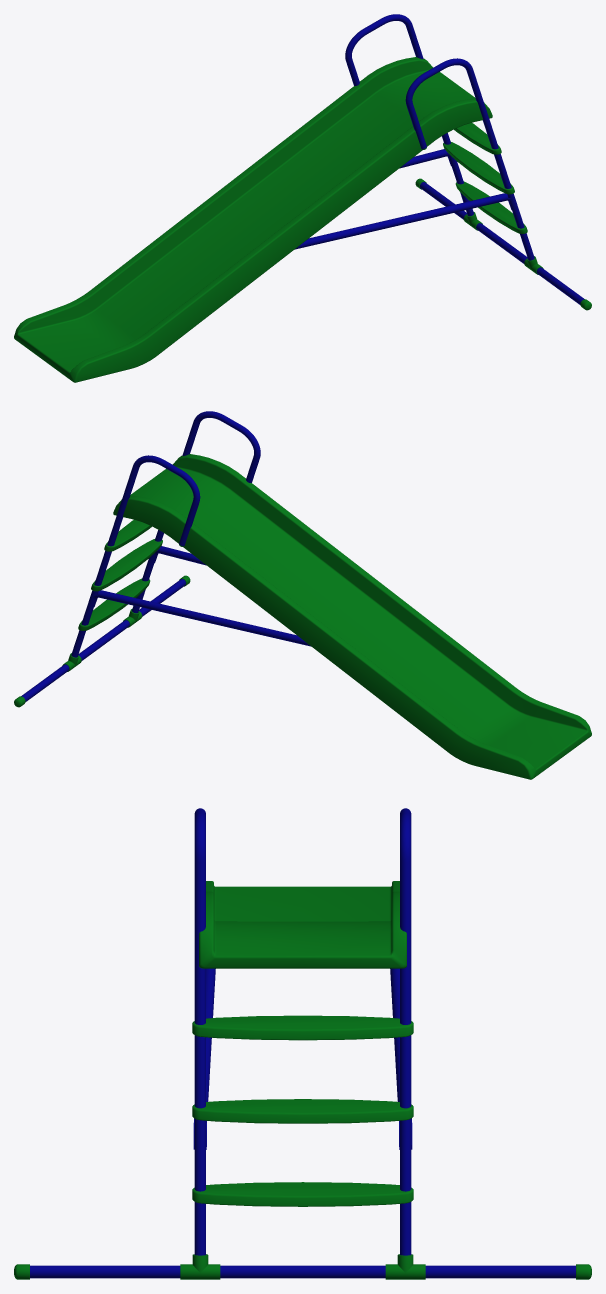
The model's file is Kids Garden Slide.fbx.
3 renders of one model, top to bottom at view 1: azimuth 30°, elevation 25°; view 2: azimuth 150°, elevation 25°; view 3: azimuth 270°, elevation 25°, orthographic. The views are drawn at different scales.
Parts seen in each view (by area): view 1: Kids Garden Slide.001; view 2: Kids Garden Slide.001; view 3: Kids Garden Slide.001.
Part boxes in pixels (x1=…): Kids Garden Slide.001: x1=14, y1=14, x2=591, y2=382; Kids Garden Slide.001: x1=14, y1=411, x2=591, y2=779; Kids Garden Slide.001: x1=14, y1=808, x2=591, y2=1279.
Size of the model in its own units: 368 by 176 by 234.
